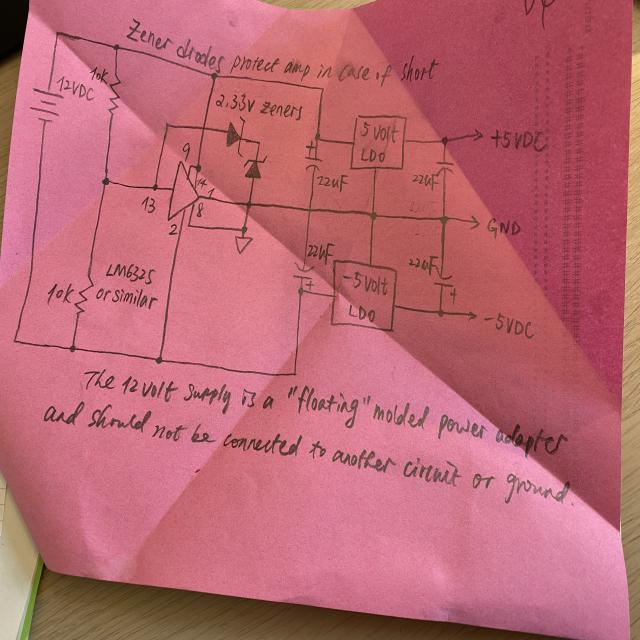capacitor: (431, 269, 456, 302), (303, 140, 323, 174), (293, 261, 315, 291), (434, 158, 455, 178)
crossover: (200, 124, 207, 132), (306, 206, 312, 214)
diode: (225, 114, 246, 158), (243, 154, 268, 179)
ground: (234, 234, 252, 255)
junction: (440, 213, 450, 226), (100, 175, 110, 187), (154, 355, 164, 366), (440, 134, 449, 146), (436, 307, 445, 318), (68, 343, 77, 354), (112, 42, 121, 53), (369, 209, 377, 221), (210, 71, 218, 82), (151, 183, 159, 193), (11, 335, 19, 345), (297, 286, 305, 296), (240, 224, 248, 234), (291, 369, 299, 378), (194, 164, 202, 173), (185, 220, 192, 230), (54, 29, 61, 38), (314, 133, 321, 141), (245, 200, 252, 208), (319, 85, 326, 93), (164, 121, 170, 130), (256, 139, 262, 147), (188, 164, 193, 169)
resistor: (73, 273, 95, 316), (107, 74, 122, 118)
source: (28, 85, 64, 126)
terminal: (468, 214, 481, 230), (472, 128, 485, 142), (466, 310, 478, 322)
text: (42, 403, 571, 510), (78, 366, 564, 465), (125, 15, 445, 91), (482, 308, 540, 342), (94, 284, 158, 310), (491, 128, 548, 154), (104, 261, 156, 286), (342, 270, 389, 296), (55, 75, 96, 102), (484, 215, 522, 242), (258, 100, 304, 122), (360, 120, 399, 144), (214, 92, 256, 113), (45, 280, 76, 306), (306, 242, 336, 266), (407, 254, 437, 277), (317, 173, 349, 193), (347, 304, 376, 324), (411, 173, 441, 191), (360, 148, 386, 163), (89, 65, 109, 84), (140, 194, 156, 214), (181, 142, 190, 161), (168, 221, 178, 236), (196, 202, 205, 218), (198, 176, 208, 189), (207, 186, 215, 197)
